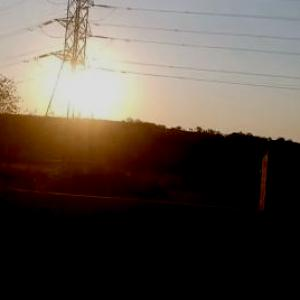follow: (0, 194, 72, 299)
